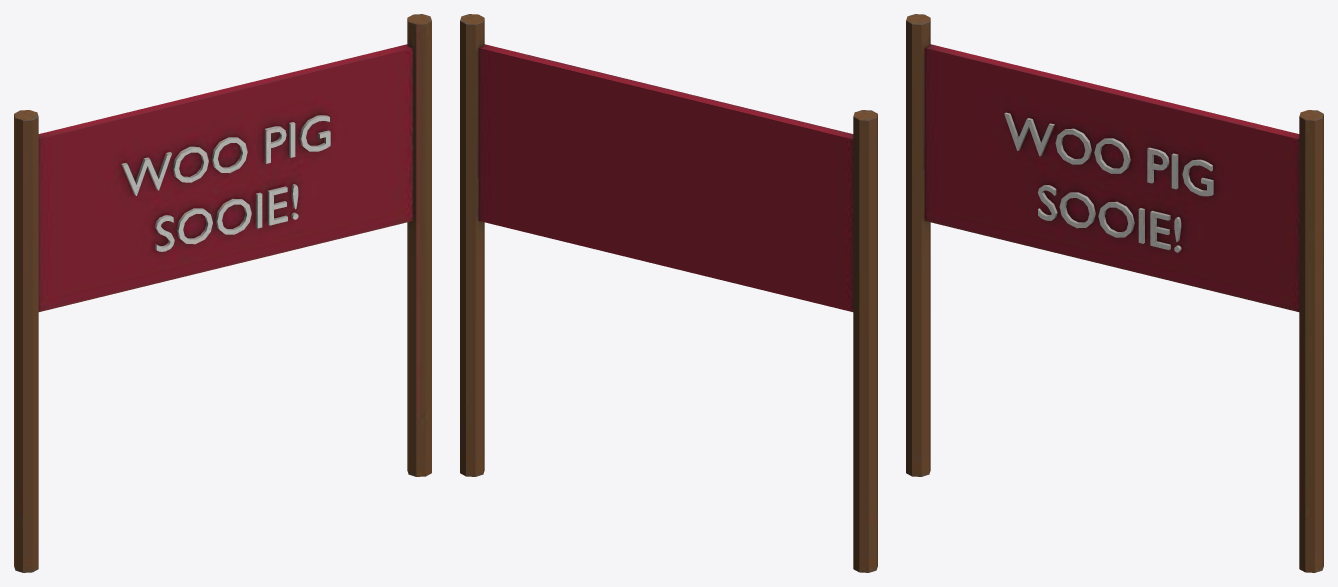
File: cartel_pig.glb
3 renders of one model, left to right at view 1: azimuth 30°, elevation 25°; view 2: azimuth 150°, elevation 25°; view 3: azimuth 330°, elevation 25°, orthographic.
Visible parts, largest first — view 1: cartel_pig; view 2: cartel_pig; view 3: cartel_pig.
Boxes of the visible parts, left/top/right/bottom form: cartel_pig: left=14, top=14, right=431, bottom=572; cartel_pig: left=460, top=14, right=877, bottom=572; cartel_pig: left=906, top=14, right=1323, bottom=572.
Size of the model in its own units: 2.64 by 2.75 by 0.14.
Materials: 1 (1 with a texture image).
